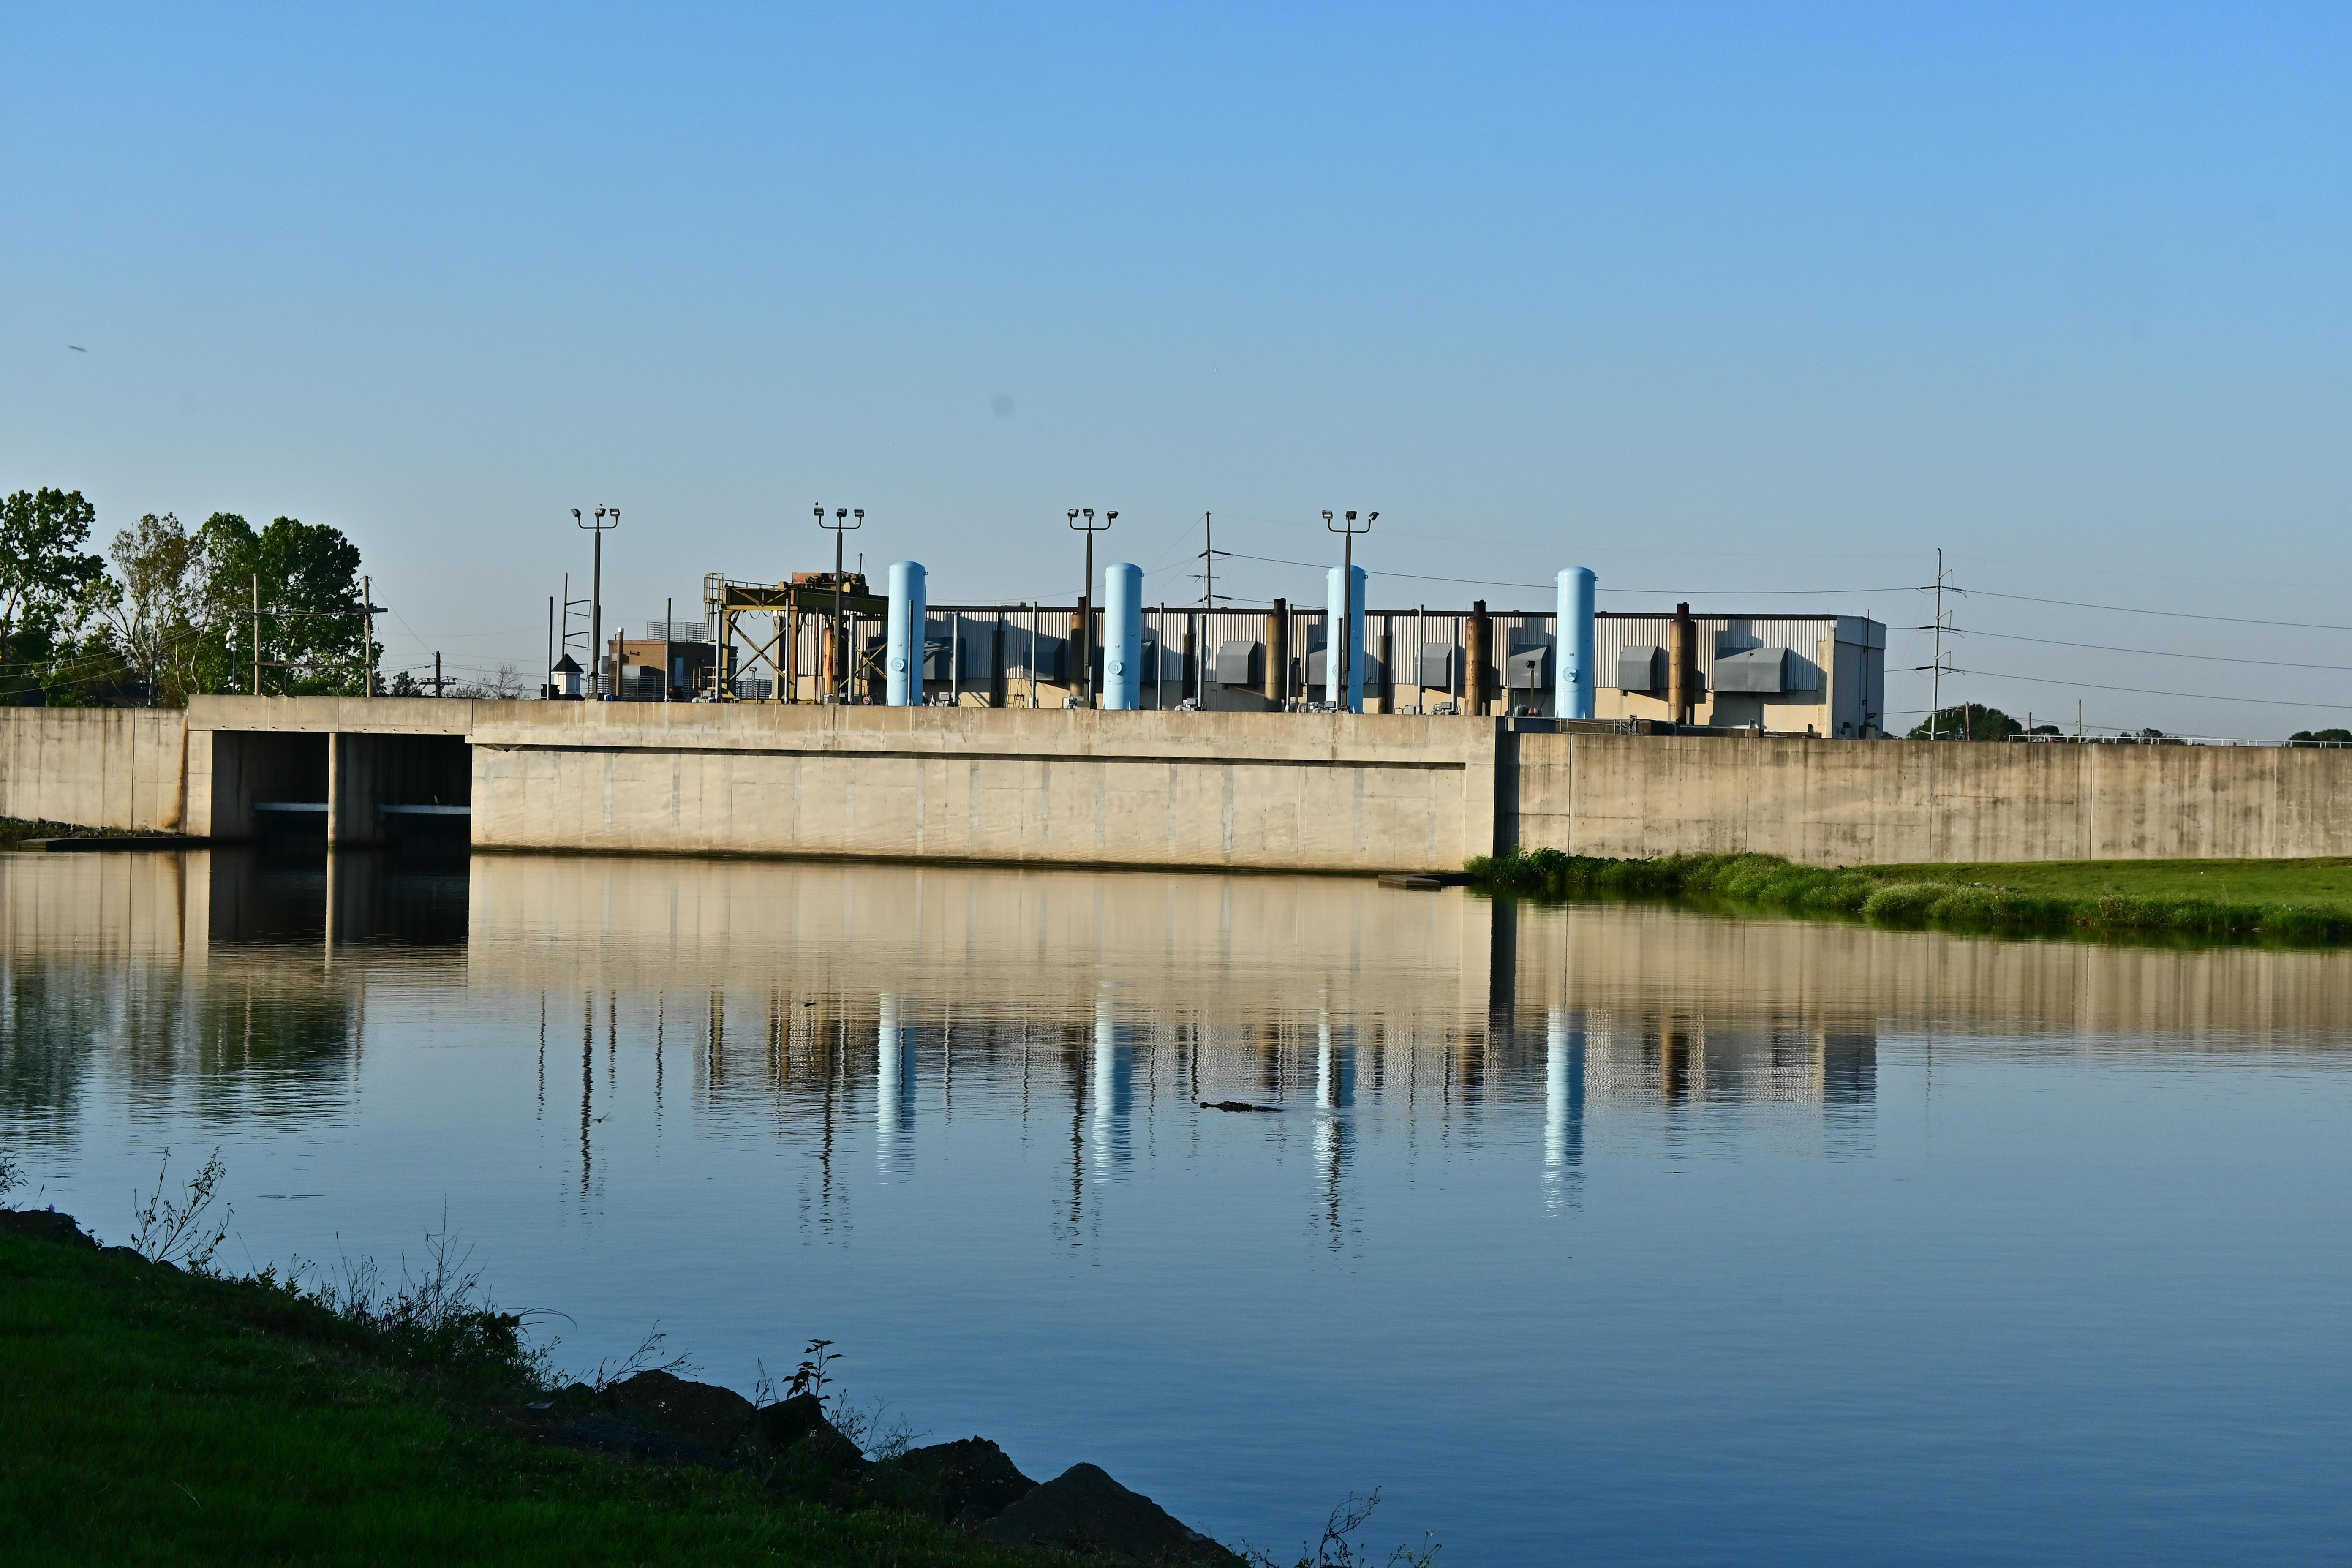affected: (487, 511, 1913, 915)
